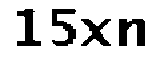1: (13, 7, 41, 51)
5: (50, 6, 78, 49)
n: (116, 15, 148, 52)
x: (80, 17, 112, 49)
